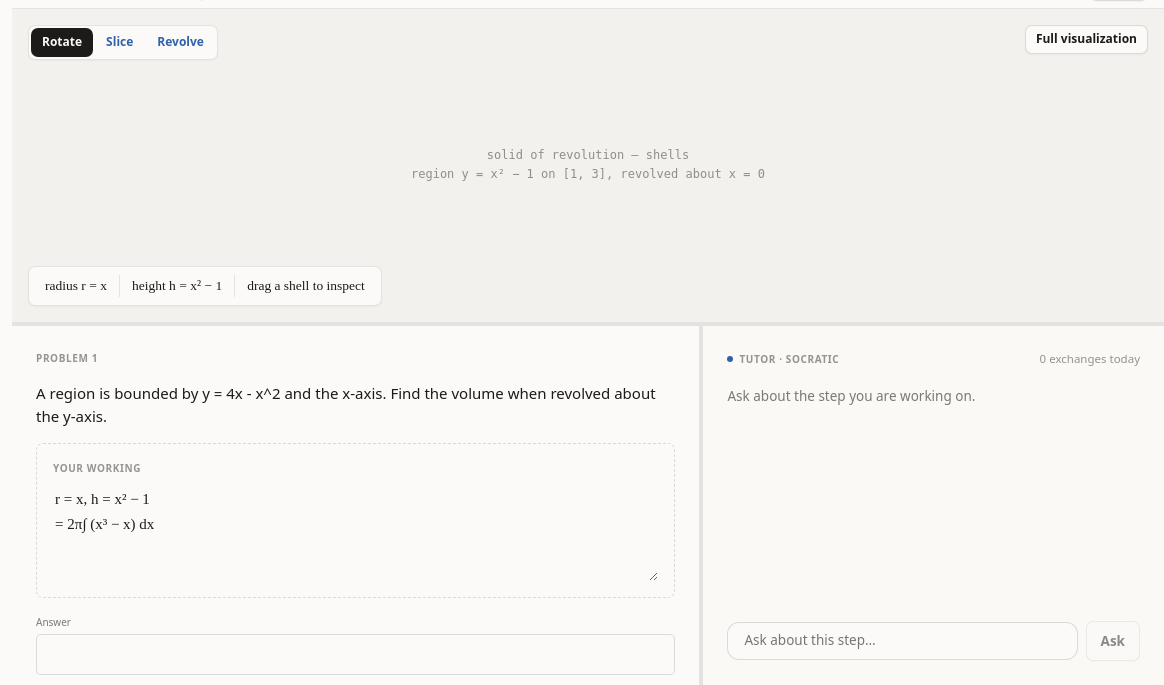
Test: StudySessionPage › surfaces an error message when checking an answer fails
This screenshot has width=1164, height=685.
Type "42.7" into the field labelled "Answer" at (356, 654), box x1=36 y1=634 x2=676 y2=675
(page scrolled)
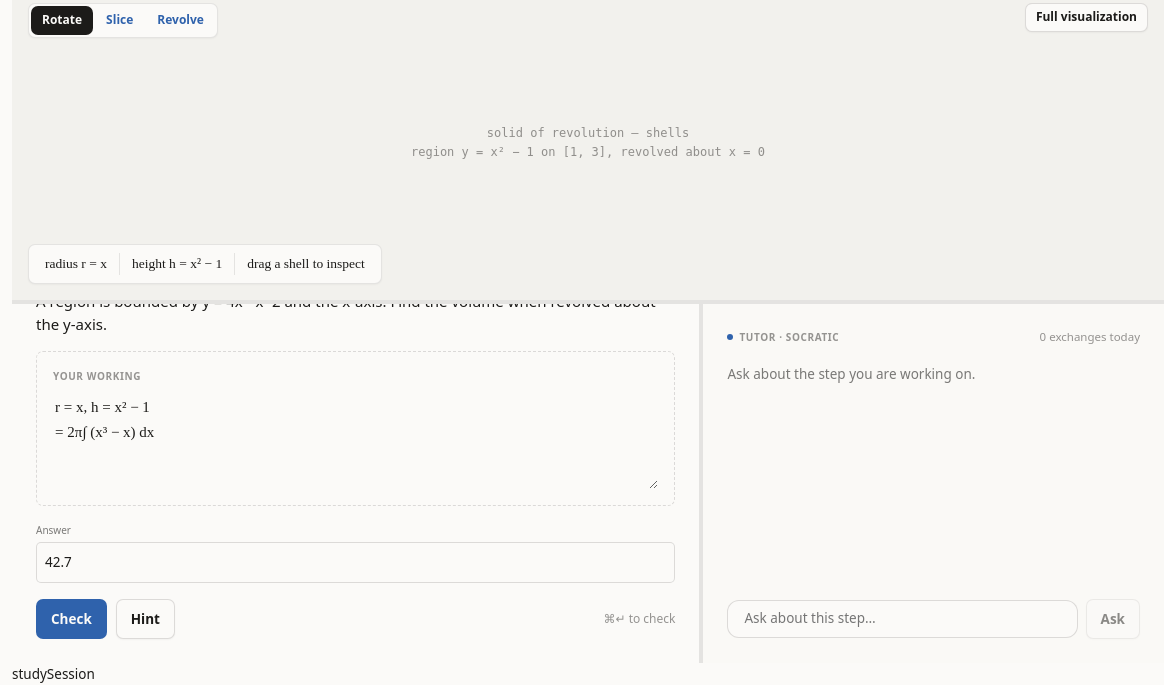
Click the button "Check" at (71, 619), box x1=36 y1=599 x2=107 y2=639
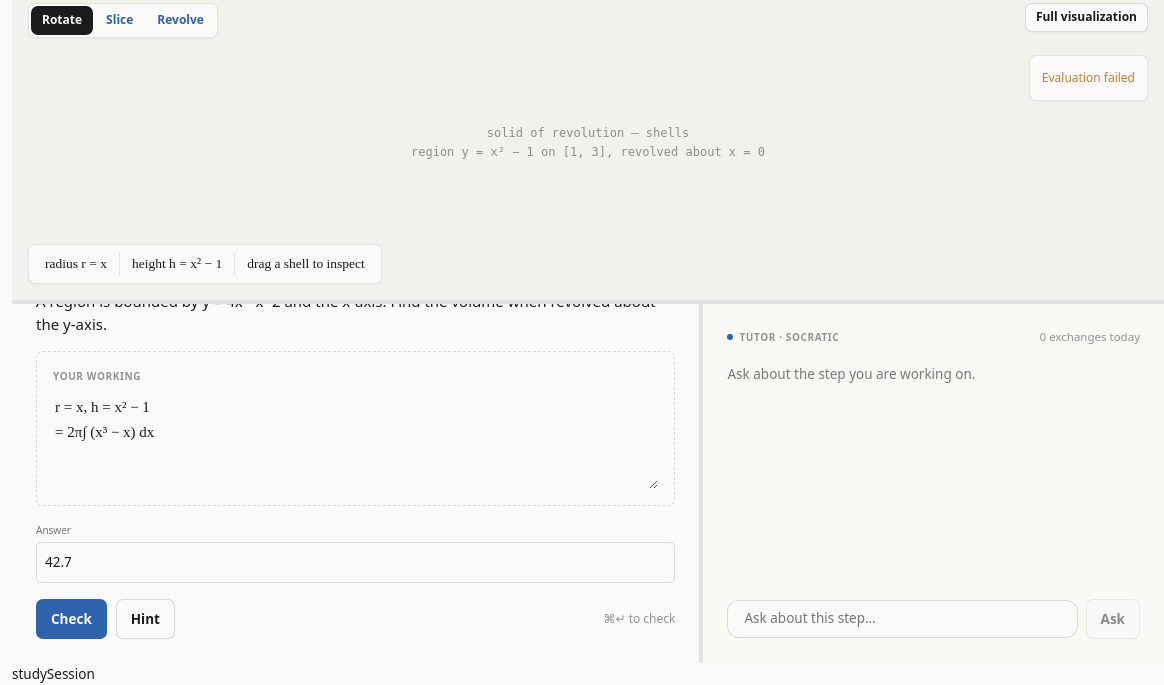
Expected: the message reads "Evaluation failed", x1=1042 y1=69 x2=1135 y2=86
